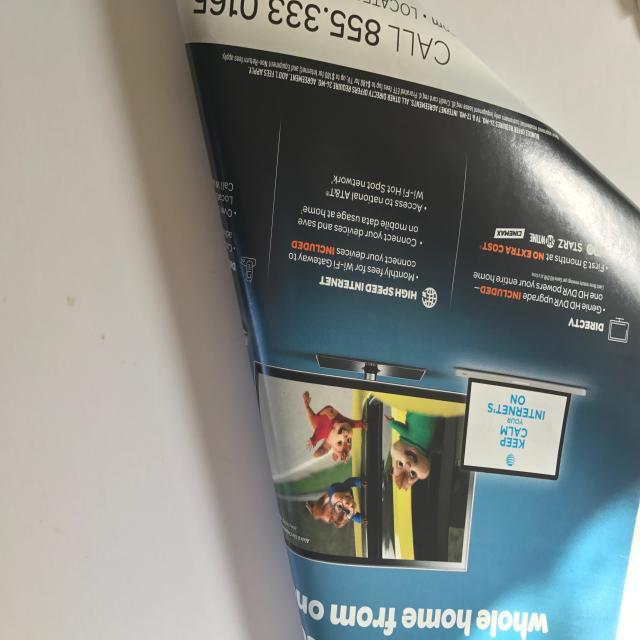paper: (172, 0, 640, 639)
